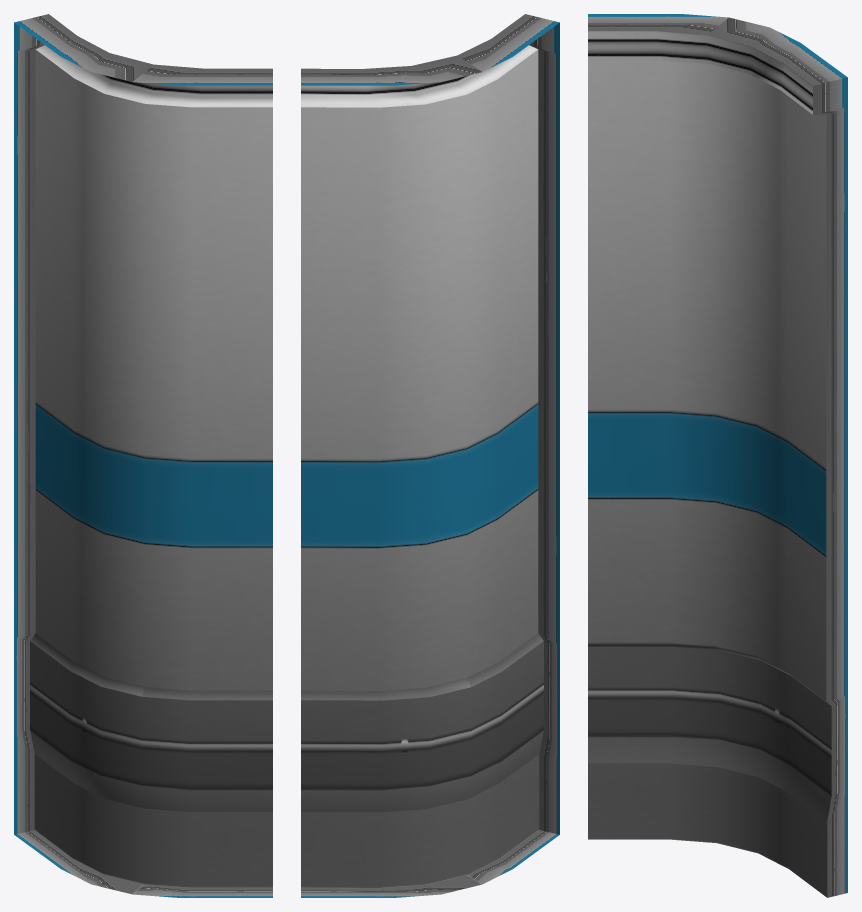
The model's file is OBT_UIN_BB.fbx.
3 views of the same model, side by side, from view 1: azimuth 90°, elevation 25°; view 2: azimuth 150°, elevation 25°; view 3: azimuth 270°, elevation 25° (orthographic).
Parts seen in each view (by area): view 1: OBT_UIN_BB; view 2: OBT_UIN_BB; view 3: OBT_UIN_BB.
Boxes of the visible parts, box(x1,y1,x2,y2) form: OBT_UIN_BB: box(14, 14, 272, 897); OBT_UIN_BB: box(301, 14, 559, 897); OBT_UIN_BB: box(588, 14, 847, 897).
Bounding box in the file's own units: 0.8505 × 4.5 × 1.3.
